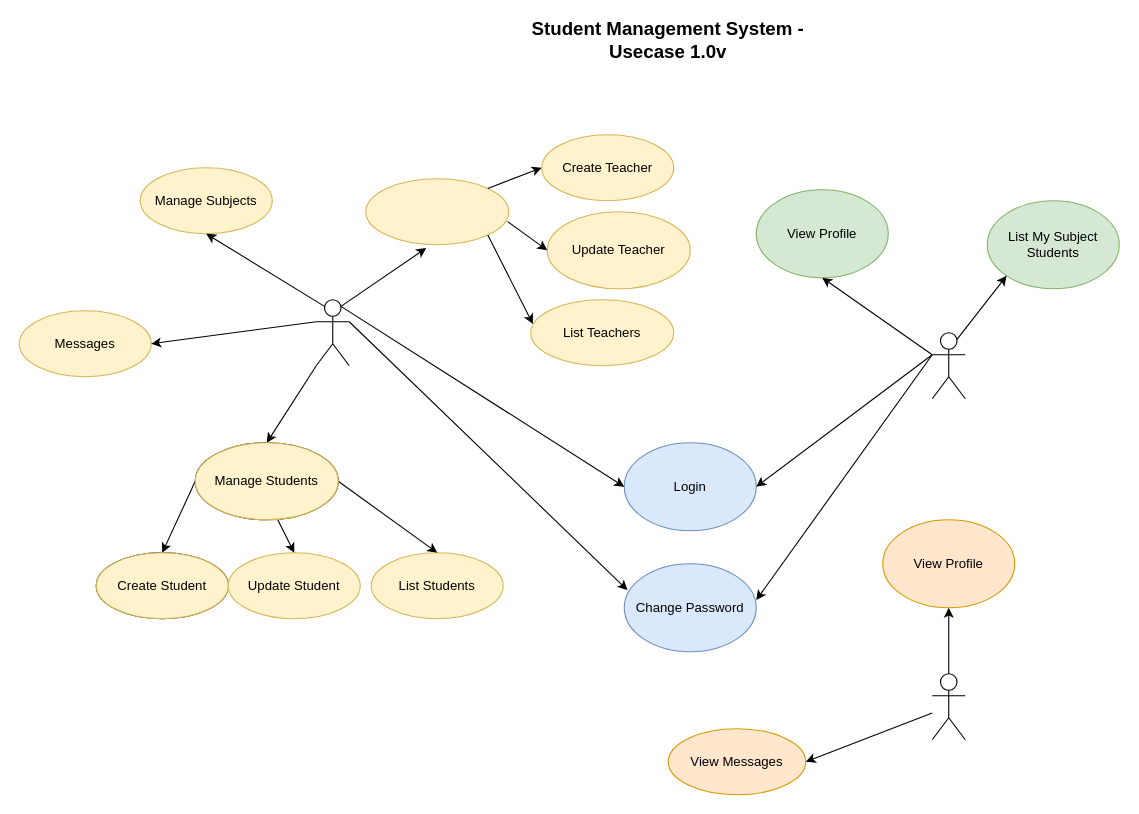
Image size: 1139x814. Some labels were removed from this diagram. The centre of each missing label's shape, as x and y in pixels:
"Admin" belongs at point (332, 332).
"Manage Teachers" belongs at point (437, 211).
"Student" belongs at point (948, 706).
"Teacher" belongs at point (948, 365).
